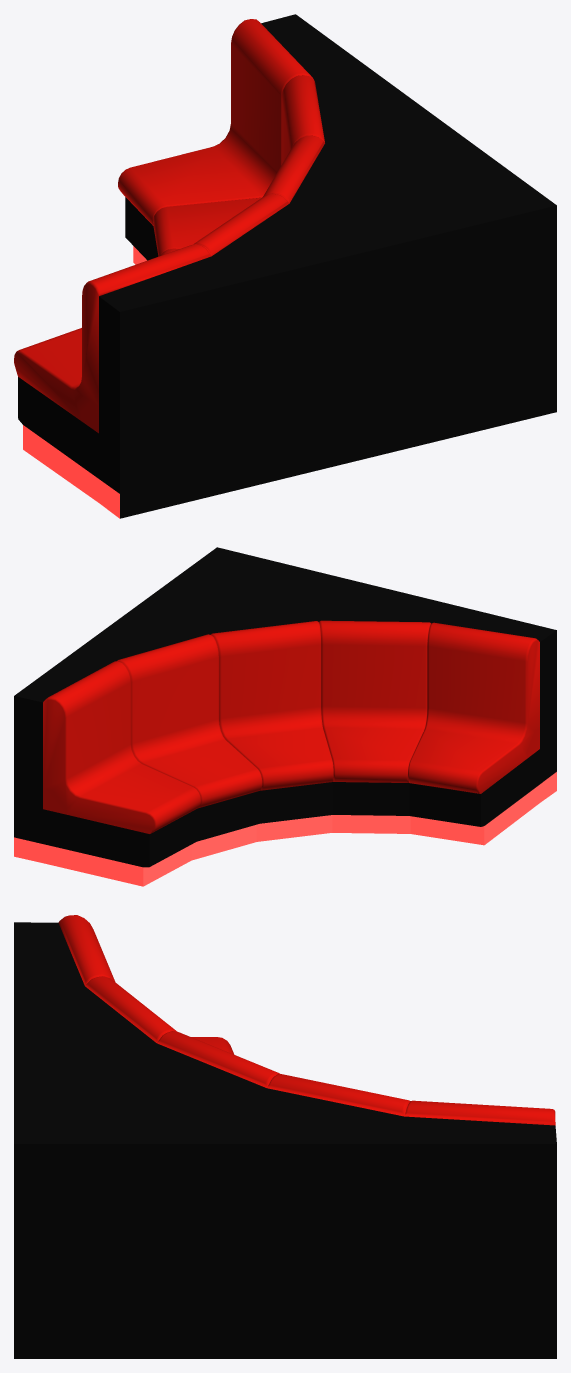
File: cornerbooth.fbx
3 renders of one model, top to bottom at view 1: azimuth 30°, elevation 25°; view 2: azimuth 150°, elevation 25°; view 3: azimuth 270°, elevation 25°, orthographic. The views are drawn at different scales.
Visible parts, largest first — view 1: Cube; view 2: Cube; view 3: Cube.
Boxes of the visible parts, left/top/right/bottom form: Cube: left=14, top=14, right=556, bottom=518; Cube: left=14, top=547, right=556, bottom=886; Cube: left=14, top=915, right=556, bottom=1358.
Bounding box in the file's own units: 792 × 370 × 816.
